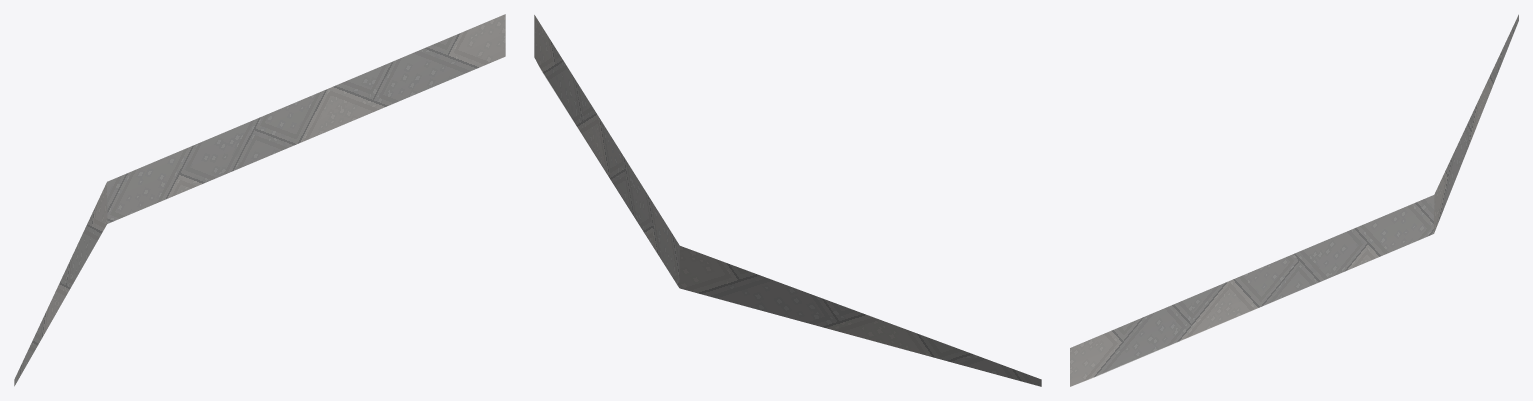
File: kd_stage_135ebf_0_33_bounded.glb
3 views of the same model, side by side, from view 1: azimuth 90°, elevation 25°; view 2: azimuth 150°, elevation 25°; view 3: azimuth 270°, elevation 25° (orthographic). The views are drawn at different scales.
Parts seen in each view (by area): view 1: kd_stage_135ebf_0_33_bounded; view 2: kd_stage_135ebf_0_33_bounded; view 3: kd_stage_135ebf_0_33_bounded.
Part boxes in pixels (x1,y1,x2,y2): kd_stage_135ebf_0_33_bounded: (14, 14, 505, 386); kd_stage_135ebf_0_33_bounded: (534, 15, 1041, 386); kd_stage_135ebf_0_33_bounded: (1070, 14, 1518, 386).
Bounding box in the file's own units: 2.67 × 0.145 × 1.52.
1 material, 1 textured.
